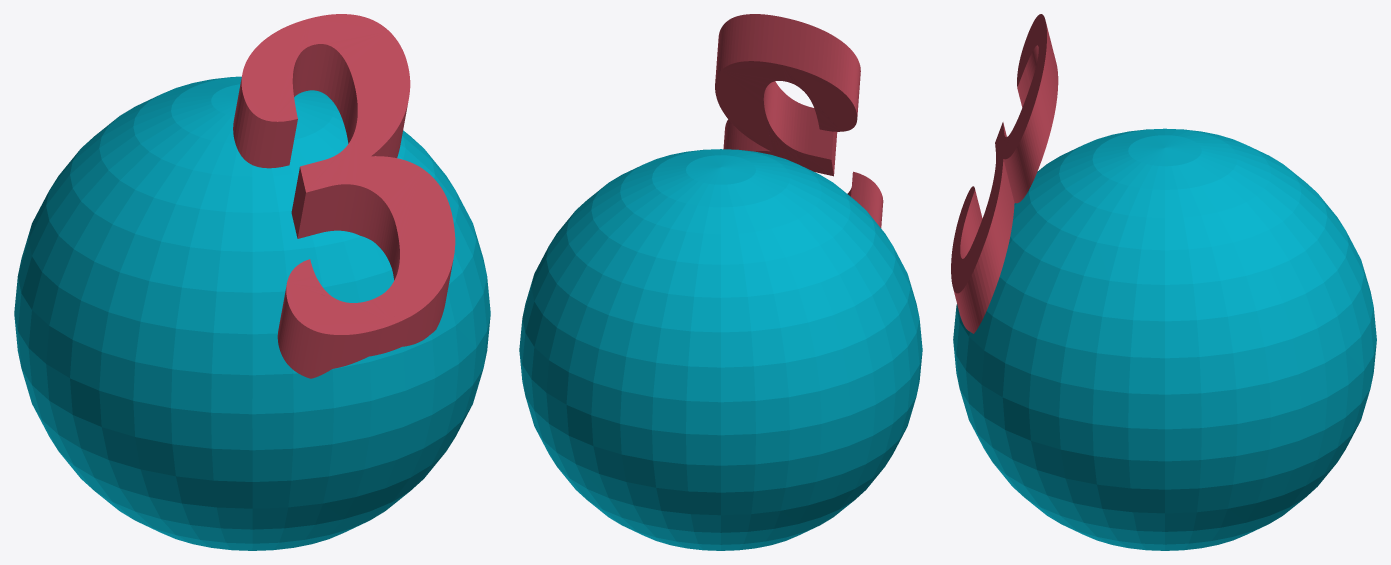
File: number_3.glb
3 views of the same model, side by side, from view 1: azimuth 30°, elevation 25°; view 2: azimuth 150°, elevation 25°; view 3: azimuth 270°, elevation 25° (orthographic). The views are drawn at different scales.
Parts seen in each view (by area): view 1: Mesh_Mesh_head_geo.001_lambert2SG.001; view 2: Mesh_Mesh_head_geo.001_lambert2SG.001; view 3: Mesh_Mesh_head_geo.001_lambert2SG.001.
Part boxes in pixels (x1,y1,x2,y2): Mesh_Mesh_head_geo.001_lambert2SG.001: (14, 14, 490, 550); Mesh_Mesh_head_geo.001_lambert2SG.001: (519, 14, 922, 550); Mesh_Mesh_head_geo.001_lambert2SG.001: (951, 14, 1376, 550).
Size of the model in its own units: 20 by 26.03 by 20.1.
